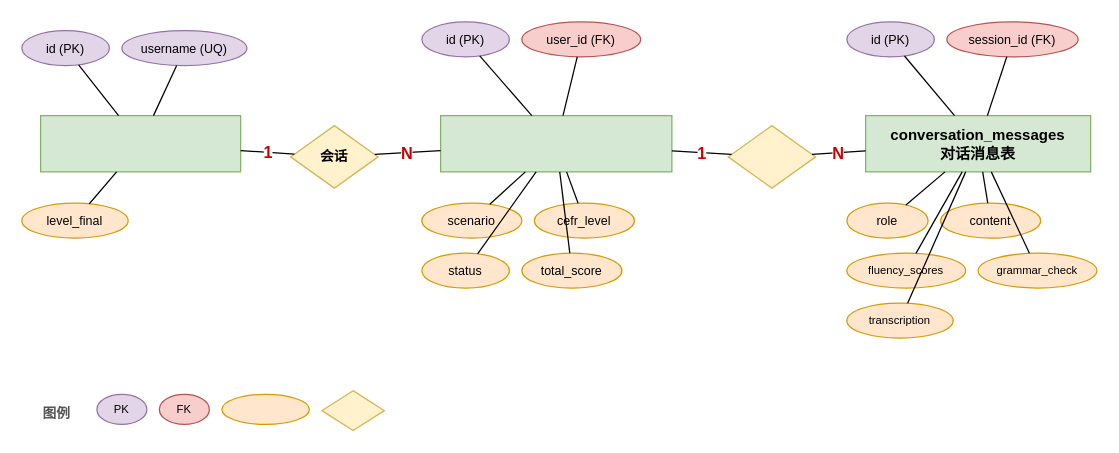
Some shapes in this 1119 by 453 pixel diagram are drawn without their labels. The centre of each missing label's shape, as x and y in pixels:
"conversation_sessions 对话会话表" belongs at pixel 555 143.
"user_profiles 用户画像表" belongs at pixel 140 143.
"关系" belongs at pixel 352 410.
"普通属性" belongs at pixel 265 408.
"消息" belongs at pixel 771 156.
